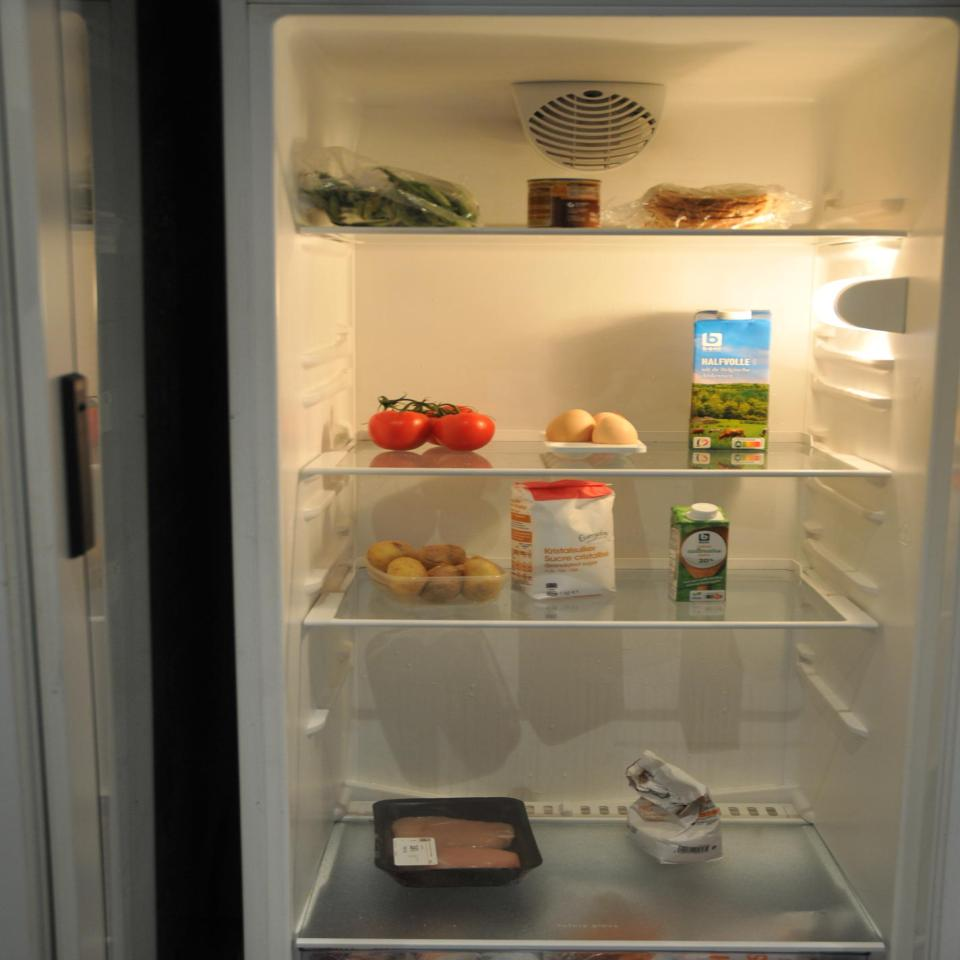Carne pollo: (385, 805, 536, 876)
Huevos: (539, 404, 655, 451)
Leche: (692, 306, 781, 466)
Tomate: (360, 400, 509, 452)
